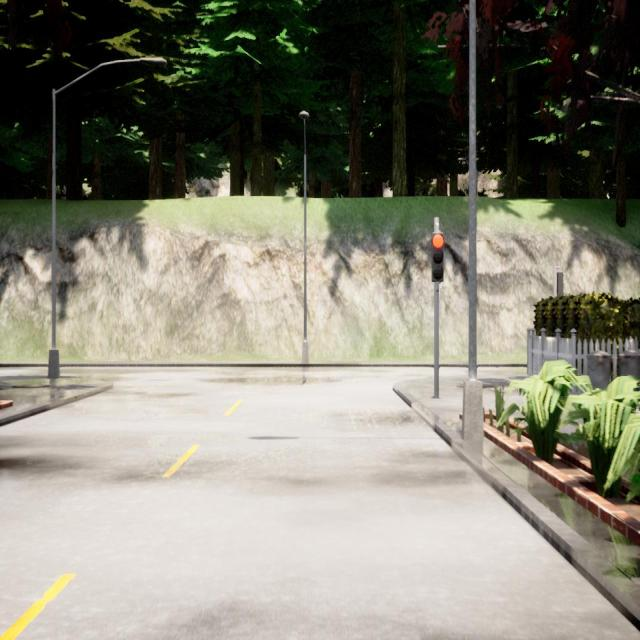traffic_light: (431, 232, 443, 282), (557, 272, 564, 295)
